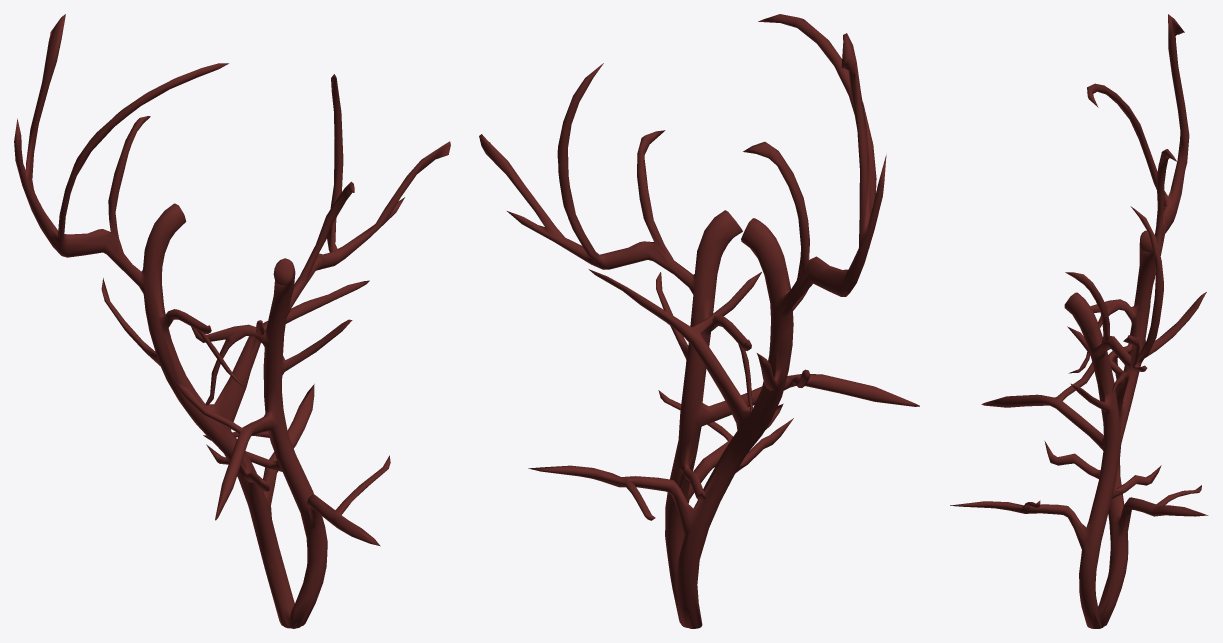
Rendered from MoonTreeState01.gltf.
The picture shows the model from 3 angles, left to right: view 1: azimuth 30°, elevation 25°; view 2: azimuth 150°, elevation 25°; view 3: azimuth 270°, elevation 25°; orthographic projection. The views are drawn at different scales.
Visible parts, largest first — view 1: Retopo_Cylinder; view 2: Retopo_Cylinder; view 3: Retopo_Cylinder.
Part boxes in pixels (box(x1,y1,x2,y2)): Retopo_Cylinder: box(14, 14, 450, 628); Retopo_Cylinder: box(479, 14, 919, 628); Retopo_Cylinder: box(950, 14, 1208, 628).
Bounding box in the file's own units: 7.47 × 11 × 4.85.
